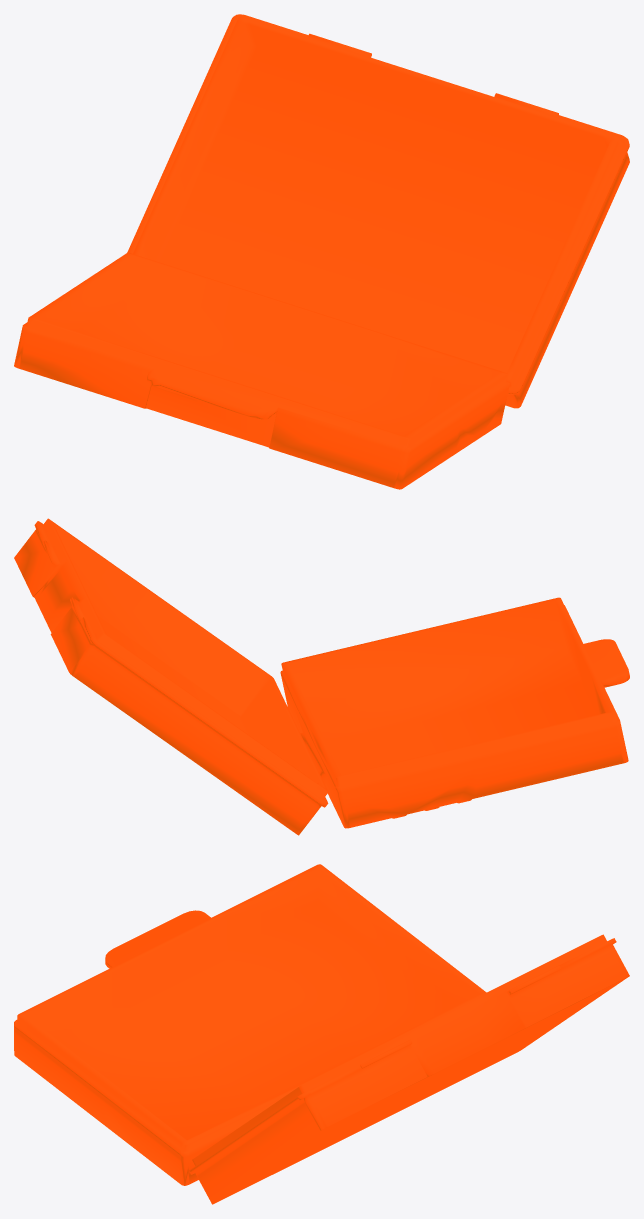
File: kit.glb
3 renders of one model, top to bottom at view 1: azimuth 30°, elevation 25°; view 2: azimuth 150°, elevation 25°; view 3: azimuth 270°, elevation 25°, orthographic. The views are drawn at different scales.
Parts seen in each view (by area): view 1: kitbox.1; view 2: kitbox.1; view 3: kitbox.1.
Boxes of the visible parts, box(x1,y1,x2,y2) form: kitbox.1: box(14, 14, 629, 489); kitbox.1: box(14, 518, 629, 835); kitbox.1: box(14, 864, 629, 1204).
Bounding box in the file's own units: 273 × 108 × 253.
